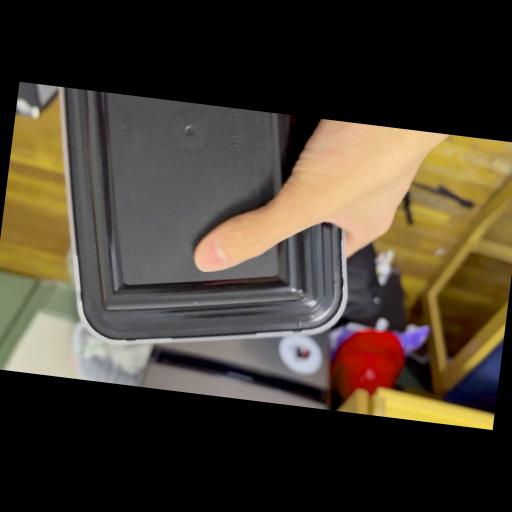rigid_plastic_container: (21, 86, 393, 390)
